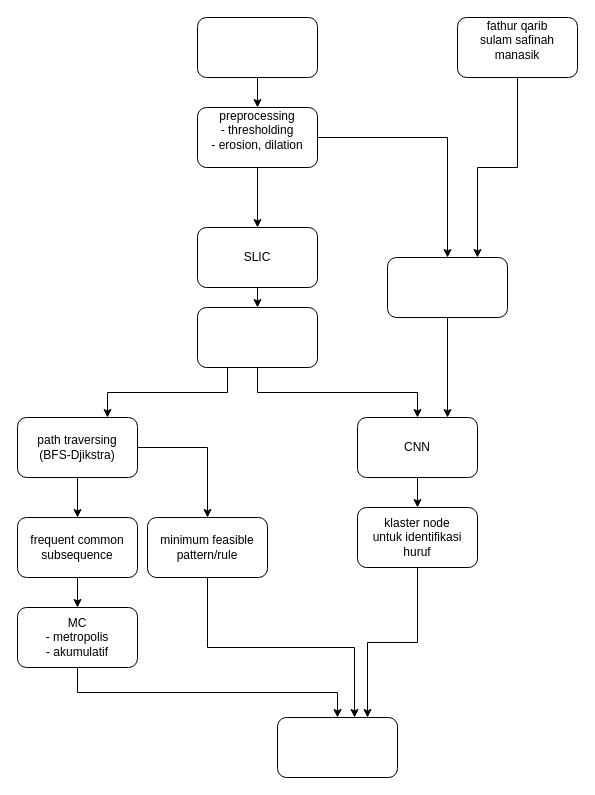
Some shapes in this 595 by 795 pixel diagram are drawn without their labels. Each missing label, with the centre of its shape:
"annotation and labelling" goes at point (447, 287).
"graph - node - edge" goes at point (257, 337).
"syair perahu (gambar kitab)" goes at point (257, 47).
"syair perahu (kitab dalam UTF8)" goes at point (337, 747).
